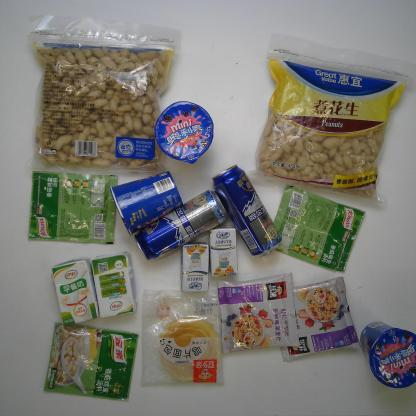Alcohol: (135, 189, 228, 262), (211, 164, 282, 257)
Dessert: (139, 287, 225, 390), (110, 170, 182, 237), (356, 318, 416, 389), (155, 101, 215, 165)
Dried Food: (252, 30, 416, 206), (24, 14, 185, 183)
Instant Drink: (278, 275, 361, 365), (213, 271, 302, 354)
Milk: (50, 257, 100, 328), (89, 254, 138, 320), (207, 224, 240, 277), (180, 243, 209, 294)
Seasoner: (272, 184, 366, 274), (42, 321, 137, 402), (24, 170, 121, 244)
